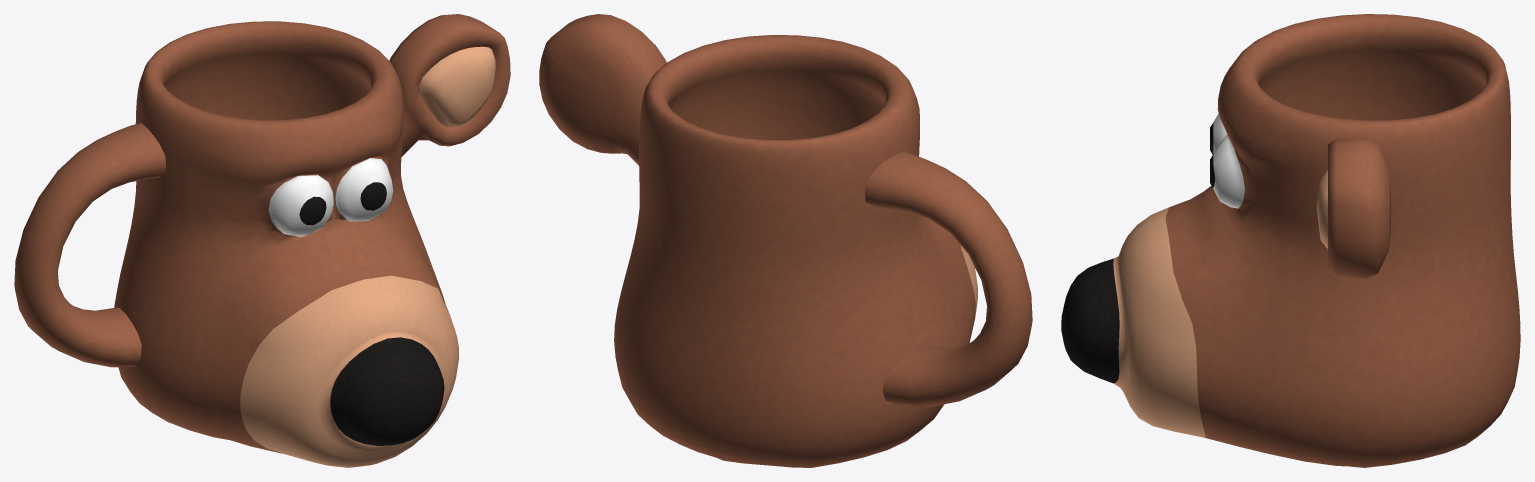
The model's file is FregitMug.fbx.
The picture shows the model from 3 angles, left to right: view 1: azimuth 30°, elevation 25°; view 2: azimuth 150°, elevation 25°; view 3: azimuth 270°, elevation 25°; orthographic projection. The views are drawn at different scales.
Parts seen in each view (by area): view 1: Circle; view 2: Circle; view 3: Circle.
Part boxes in pixels (box(x1,y1,x2,y2)): Circle: box(14, 14, 510, 467); Circle: box(539, 14, 1032, 467); Circle: box(1061, 14, 1520, 467).
Bounding box in the file's own units: 24.41 × 17.18 × 19.01.
